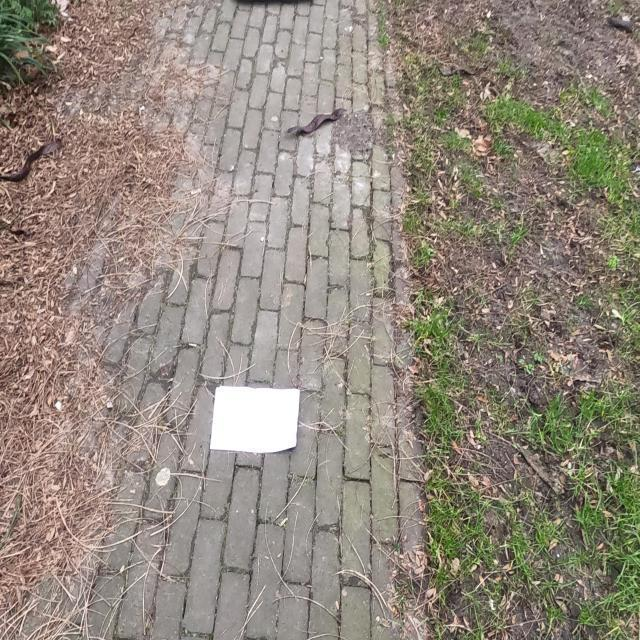Paper: (208, 383, 300, 456)
